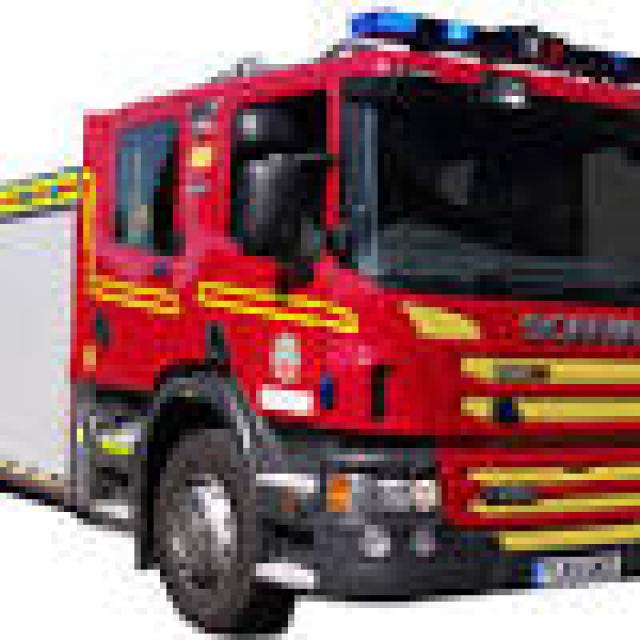Fire_brigade: (6, 13, 640, 589)
